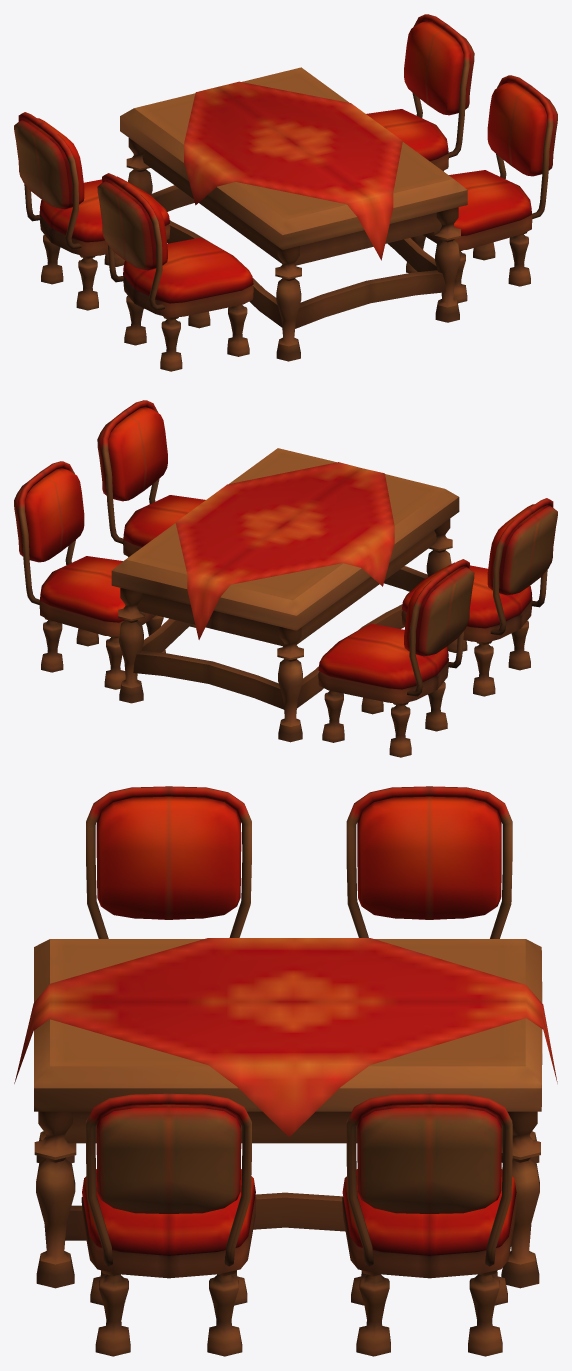
File: Kitchen_Table_01.gltf
The picture shows the model from 3 angles, top to bottom: view 1: azimuth 30°, elevation 25°; view 2: azimuth 150°, elevation 25°; view 3: azimuth 270°, elevation 25°; orthographic projection. The views are drawn at different scales.
Parts seen in each view (by area): view 1: Kitchen_Table_01; view 2: Kitchen_Table_01; view 3: Kitchen_Table_01.
Boxes of the visible parts, x1,y1,x2,y2 form: Kitchen_Table_01: [14, 14, 557, 371]; Kitchen_Table_01: [14, 400, 557, 757]; Kitchen_Table_01: [14, 786, 557, 1356].
Size of the model in its own units: 100 by 39.93 by 71.66.
Materials: 1 (1 with a texture image).
